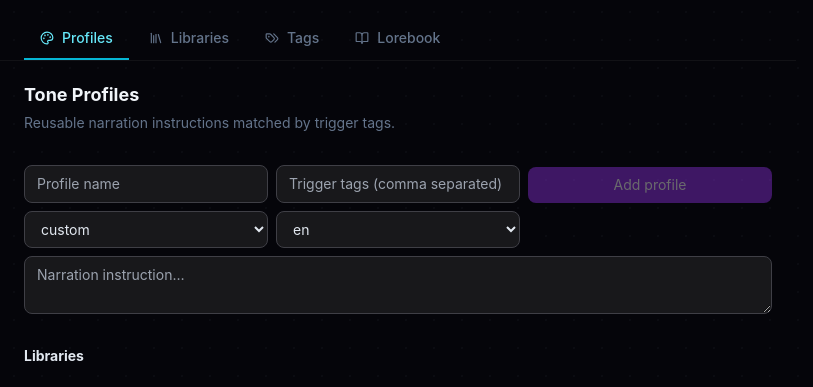
Test: /forge/style — page skeleton (F3-4.0) › renders the real Tags panel with category tabs (F3-4.3)
Click the button "Tags": (292, 39) [249,18,335,60]
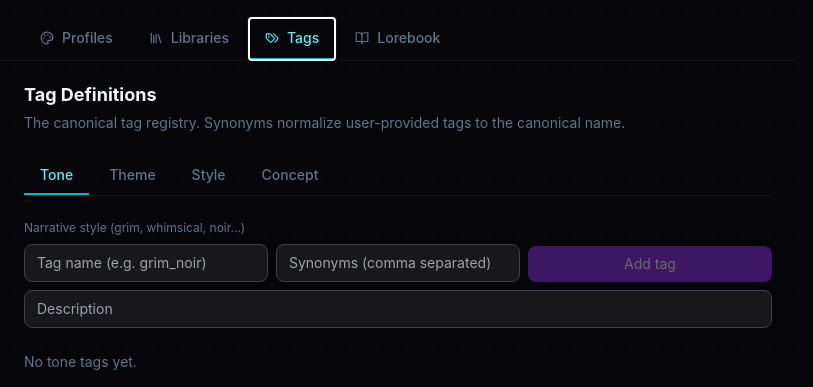
Result: the heading "Tag Definitions" is shown at [24,84,157,105]
Result: the button "Tone" is shown at [24,157,89,195]
Result: the button "Theme" is shown at [93,157,172,195]
